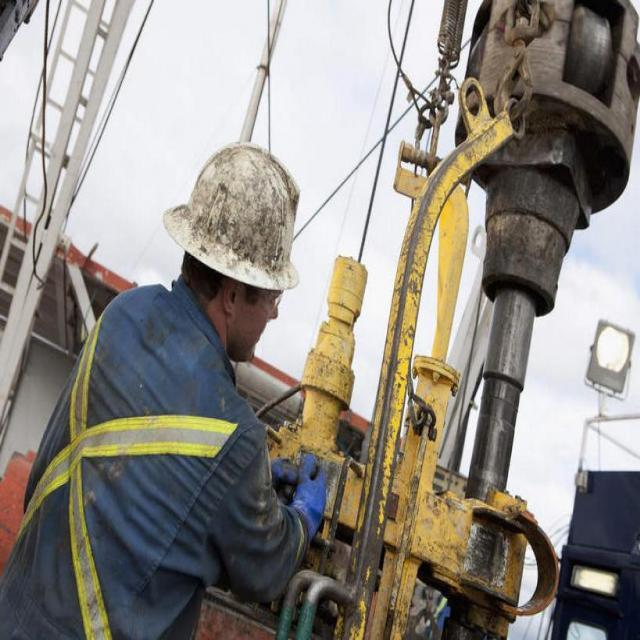reflective_jacket: (14, 287, 262, 635)
safety_helmet: (159, 134, 306, 295)
